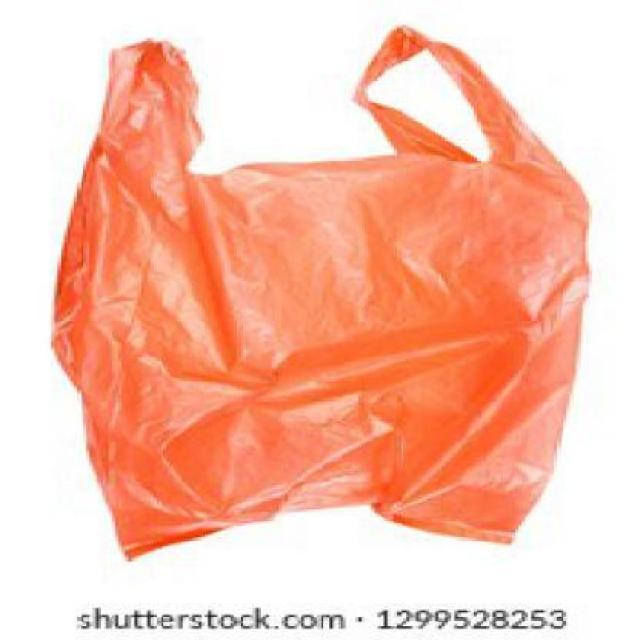plastic bag: (40, 9, 602, 582)
